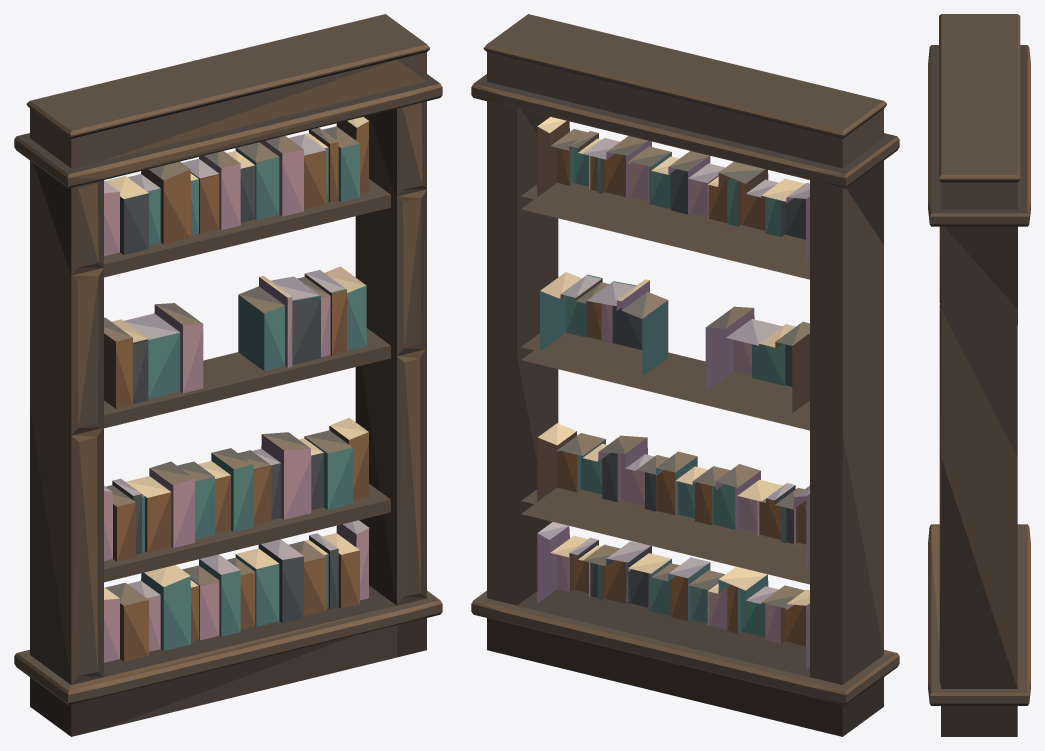
The model's file is bookshelf 1.fbx.
3 renders of one model, left to right at view 1: azimuth 30°, elevation 25°; view 2: azimuth 150°, elevation 25°; view 3: azimuth 270°, elevation 25°, orthographic. The views are drawn at different scales.
Parts seen in each view (by area): view 1: bookshelf, books1, books2; view 2: bookshelf, books1, books2; view 3: bookshelf.
Boxes of the visible parts, left/top/right/bottom form: bookshelf: left=14, top=14, right=442, bottom=736; books1: left=238, top=266, right=366, bottom=370; books2: left=104, top=303, right=203, bottom=408; bookshelf: left=471, top=14, right=899, bottom=736; books1: left=540, top=272, right=668, bottom=376; books2: left=705, top=306, right=809, bottom=413; bookshelf: left=928, top=14, right=1030, bottom=736.
Bounding box in the file's own units: 174 × 269 × 44.66.
